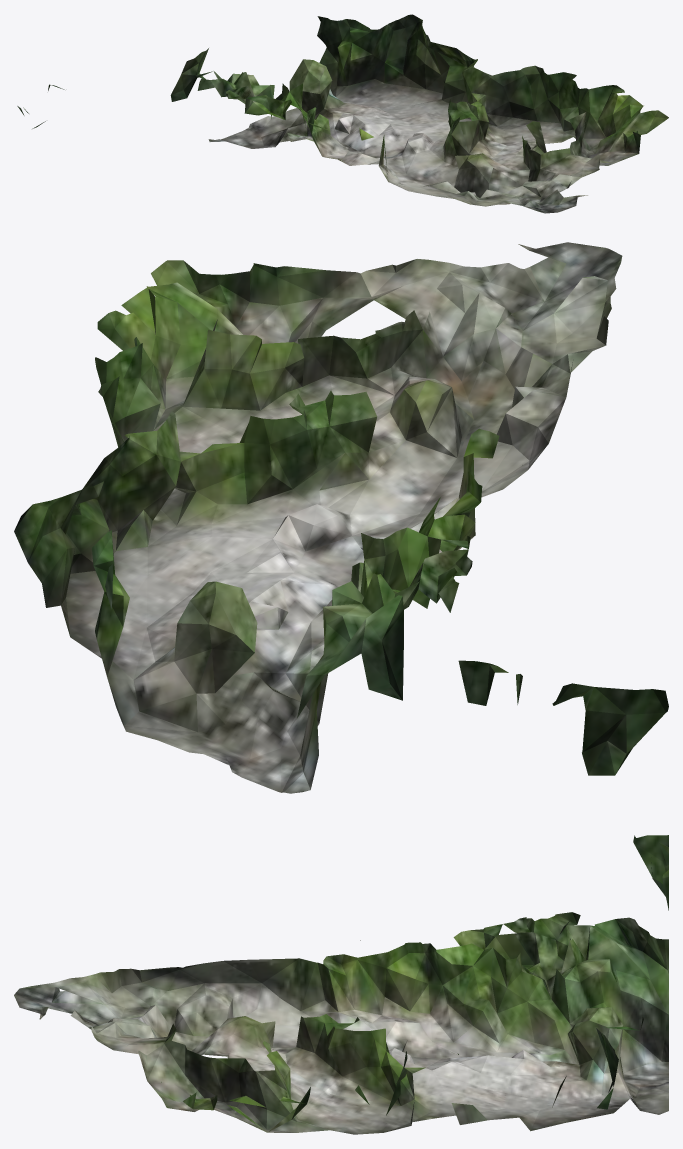
3 views of the same model, one above another, from view 1: azimuth 30°, elevation 25°; view 2: azimuth 150°, elevation 25°; view 3: azimuth 270°, elevation 25° (orthographic). The views are drawn at different scales.
Size of the model in its own units: 50.53 by 10.4 by 49.37.
2 materials, 2 textured.
